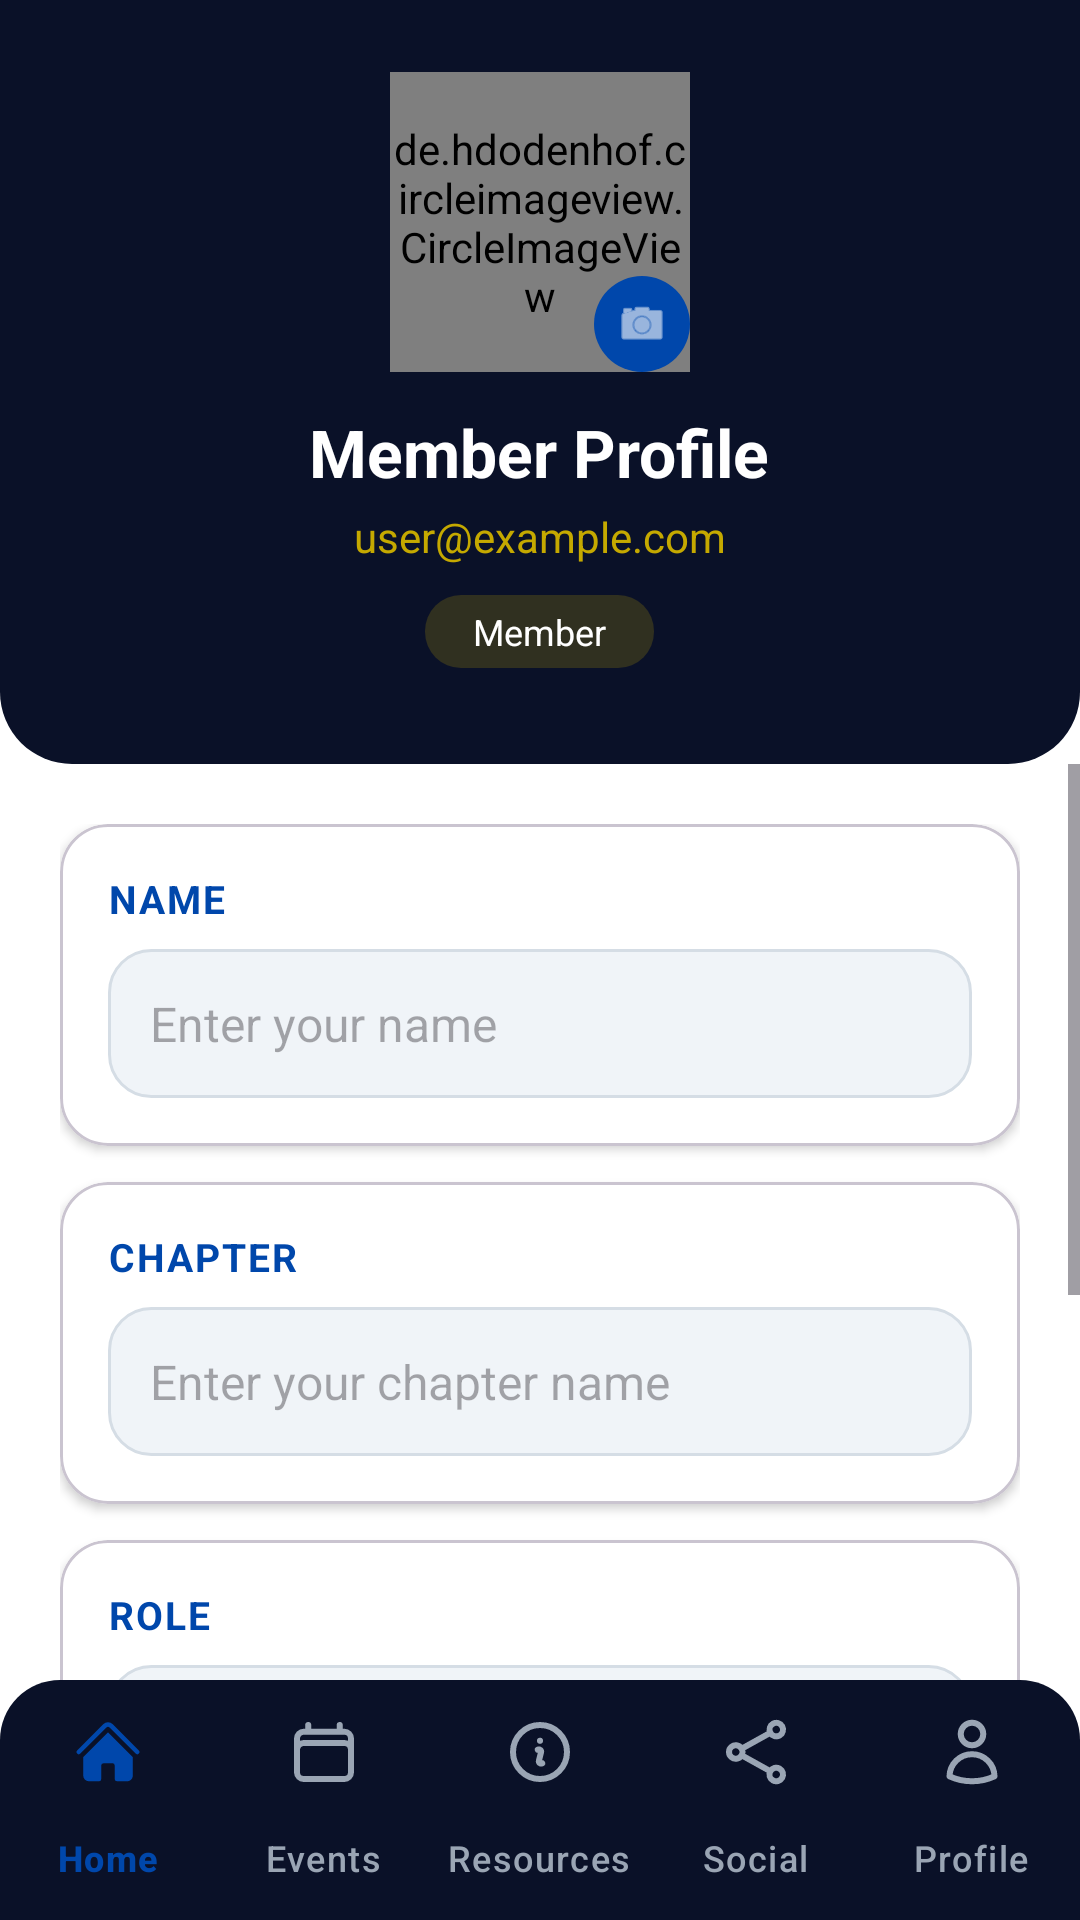

Point at icon controls on the screen. Image size 1080px x 1920px, points as (x=x, y=y).
Change profile picture: (x=642, y=323)
